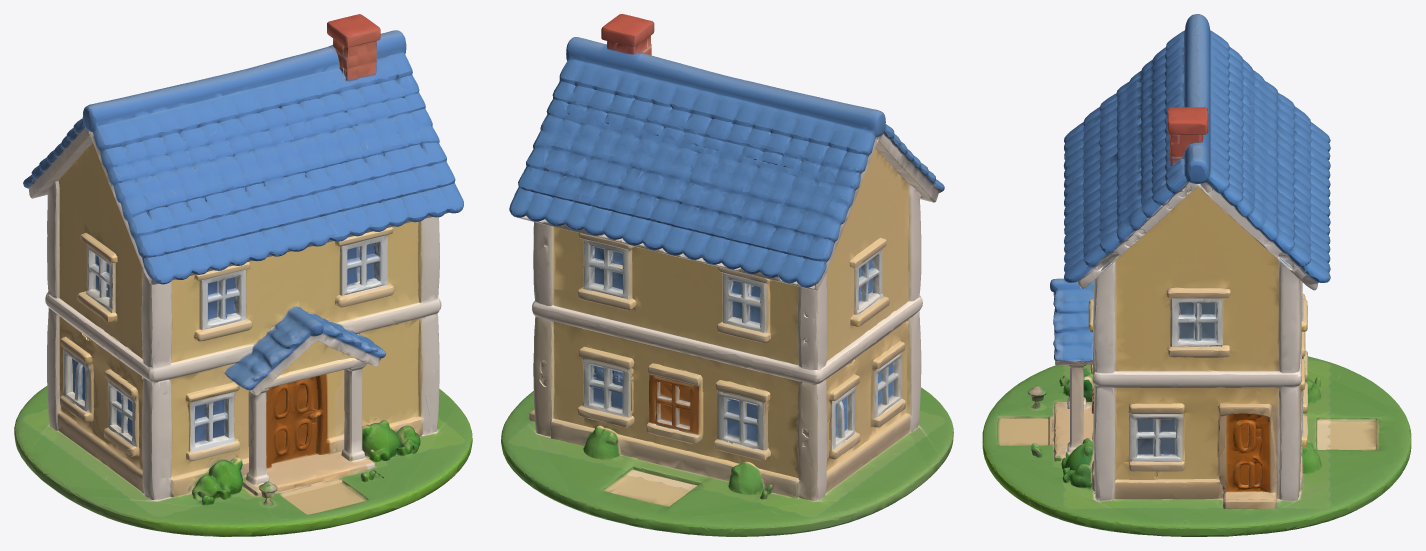
File: HouseTwo.glb
3 views of the same model, side by side, from view 1: azimuth 30°, elevation 25°; view 2: azimuth 150°, elevation 25°; view 3: azimuth 270°, elevation 25° (orthographic). The views are drawn at different scales.
Parts seen in each view (by area): view 1: geometry_0; view 2: geometry_0; view 3: geometry_0.
Part boxes in pixels (x1,y1,x2,y2): geometry_0: (14,14,472,536); geometry_0: (501,14,953,536); geometry_0: (982,14,1411,536).
Bounding box in the file's own units: 0.2827 × 0.28 × 0.2826.
1 material, 1 textured.
